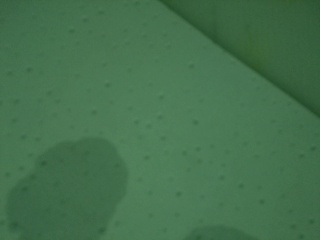Water_detected: (26, 148, 112, 240)
